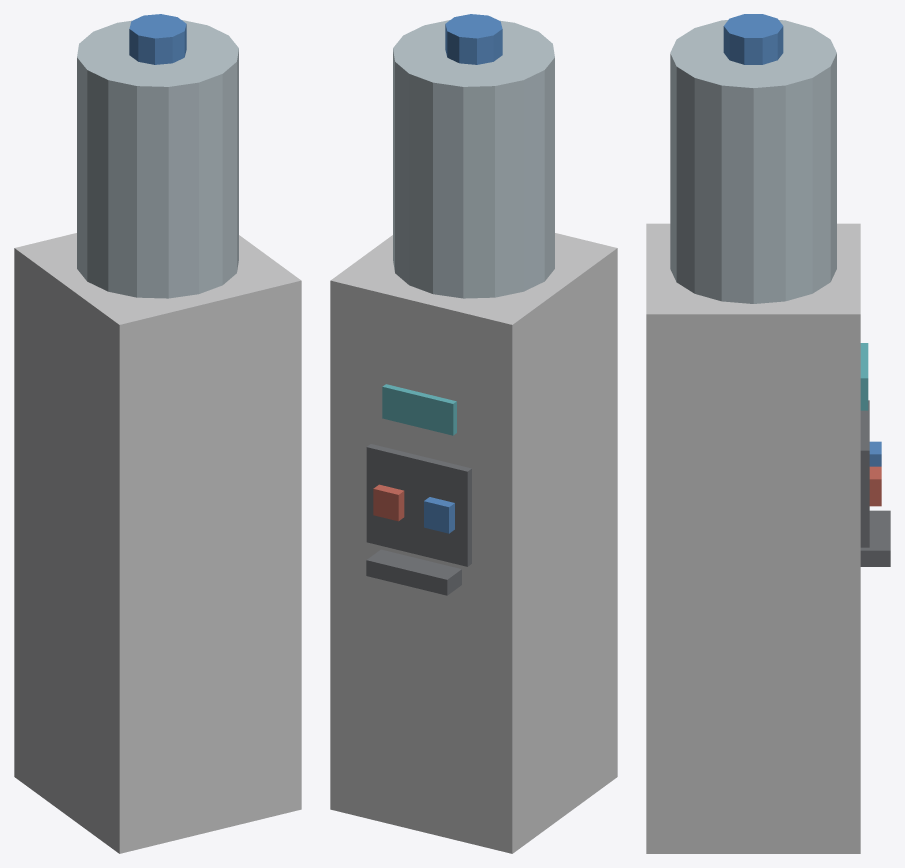
The model's file is eld_dispenser.glb.
3 views of the same model, side by side, from view 1: azimuth 30°, elevation 25°; view 2: azimuth 150°, elevation 25°; view 3: azimuth 270°, elevation 25° (orthographic). The views are drawn at different scales.
Parts seen in each view (by area): view 1: ELD_DISPENSER_v01; view 2: ELD_DISPENSER_v01; view 3: ELD_DISPENSER_v01.
Part boxes in pixels (x1,y1,x2,y2): ELD_DISPENSER_v01: (14,14,301,853); ELD_DISPENSER_v01: (330,14,617,853); ELD_DISPENSER_v01: (646,14,890,853).
Size of the model in its own units: 0.36 by 1.45 by 0.41.
